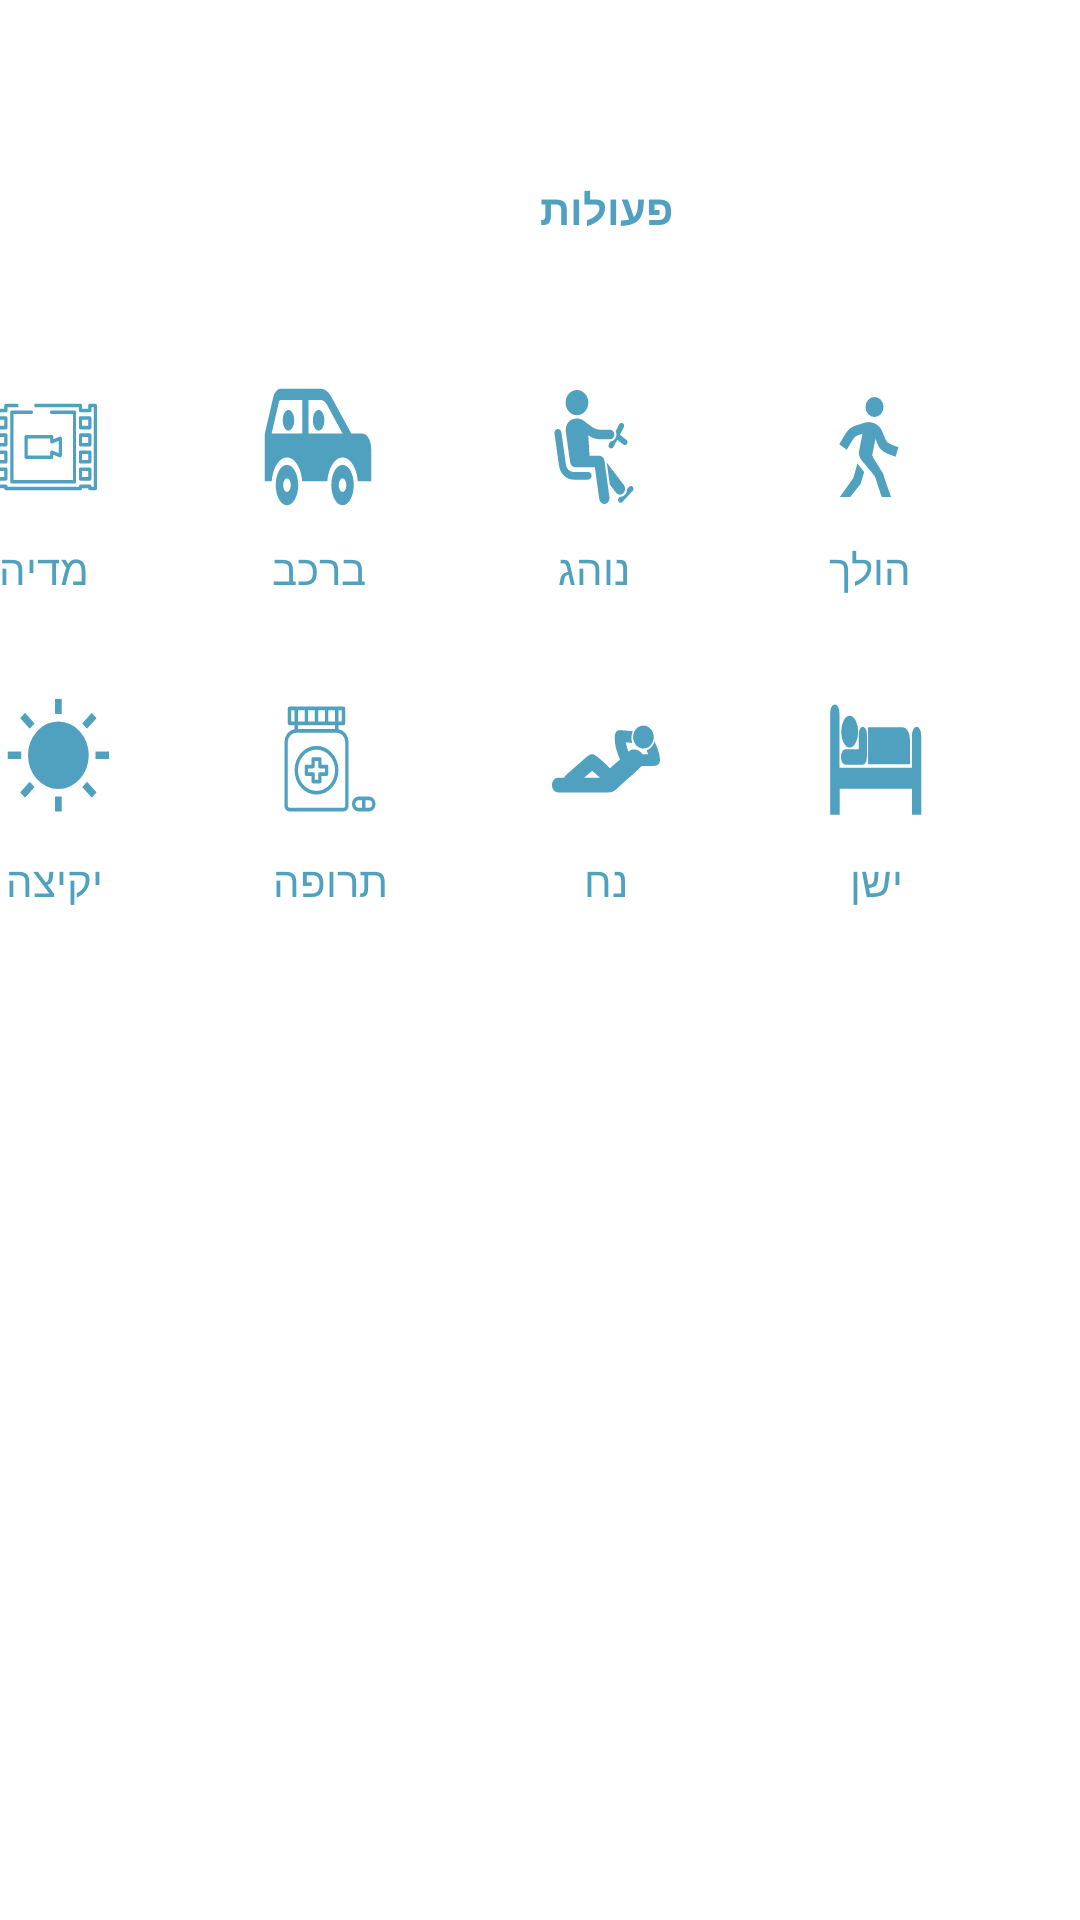

Icon click points for this 1080px×1920px phone screenshot, format point (x, y):
car pool ride sharing: point (318, 447)
drive driver driving: point (594, 447)
resting: point (606, 759)
sport walking: point (869, 447)
